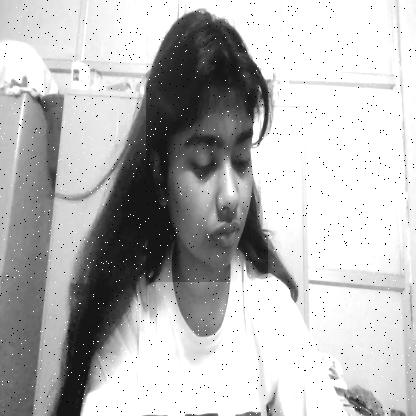Distracted: (146, 4, 268, 282)
